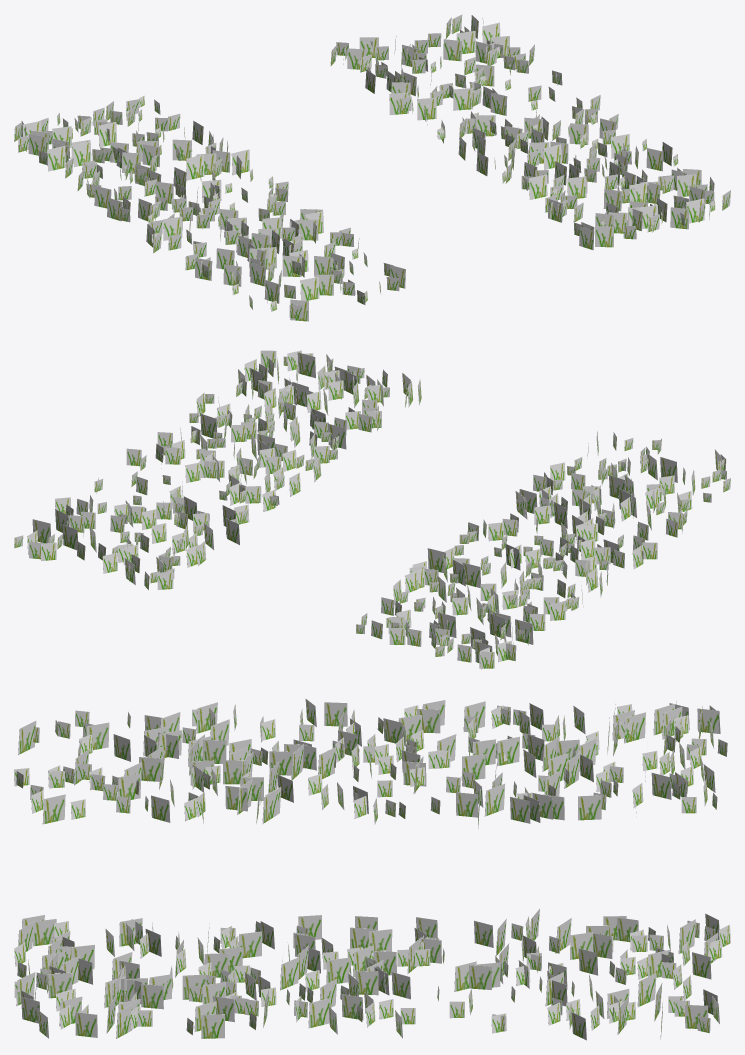
File: Grass.fbx
The picture shows the model from 3 angles, top to bottom: view 1: azimuth 30°, elevation 25°; view 2: azimuth 150°, elevation 25°; view 3: azimuth 270°, elevation 25°; orthographic projection. The views are drawn at different scales.
Parts seen in each view (by area): view 1: Garden; view 2: Garden; view 3: Garden.
Boxes of the visible parts, x1,y1,x2,y2 form: Garden: [14, 14, 730, 321]; Garden: [14, 350, 730, 669]; Garden: [14, 698, 730, 1040].
Bounding box in the file's own units: 4.82 × 4.55 × 0.2028.
